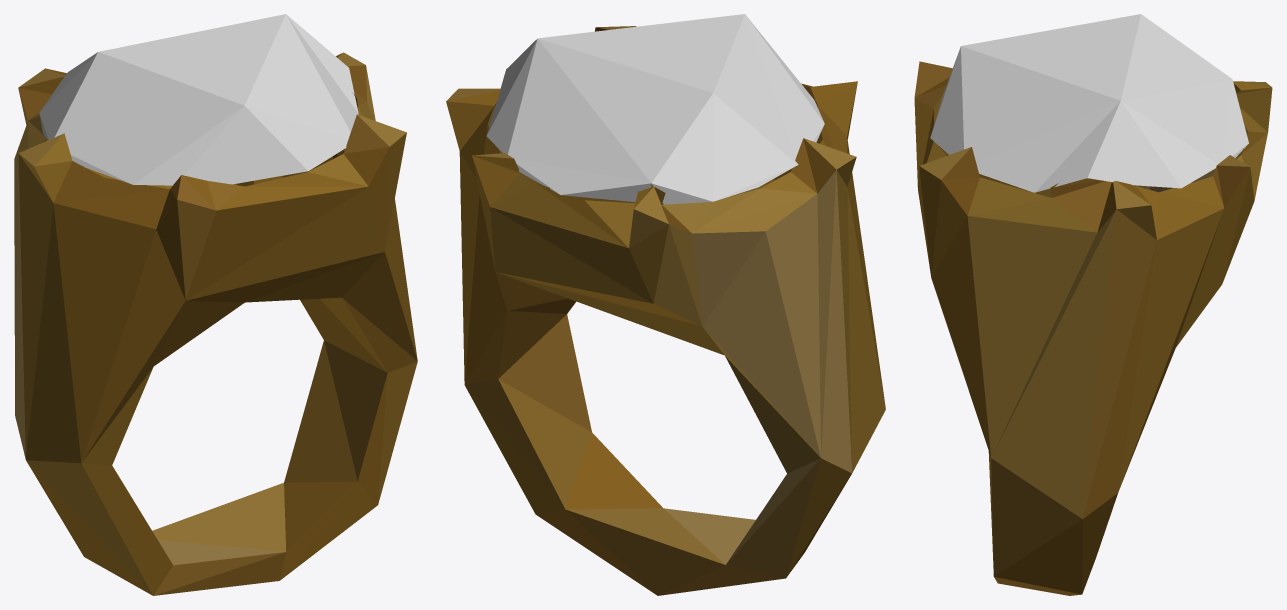
File: aiwpn_ring_lo.glb
The picture shows the model from 3 angles, left to right: view 1: azimuth 30°, elevation 25°; view 2: azimuth 150°, elevation 25°; view 3: azimuth 270°, elevation 25°; orthographic projection. The views are drawn at different scales.
Parts seen in each view (by area): view 1: ca_aiwpn_ring_lo; view 2: ca_aiwpn_ring_lo; view 3: ca_aiwpn_ring_lo.
Boxes of the visible parts, bbox=[...] form: ca_aiwpn_ring_lo: bbox=[14, 14, 417, 595]; ca_aiwpn_ring_lo: bbox=[446, 14, 885, 595]; ca_aiwpn_ring_lo: bbox=[914, 14, 1272, 595].
Bounding box in the file's own units: 0.2611 × 0.3672 × 0.2206.
